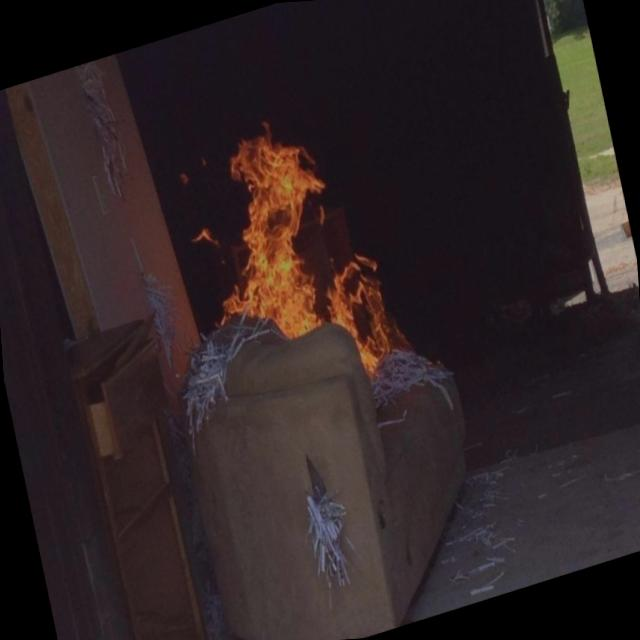fire: (188, 97, 398, 394)
